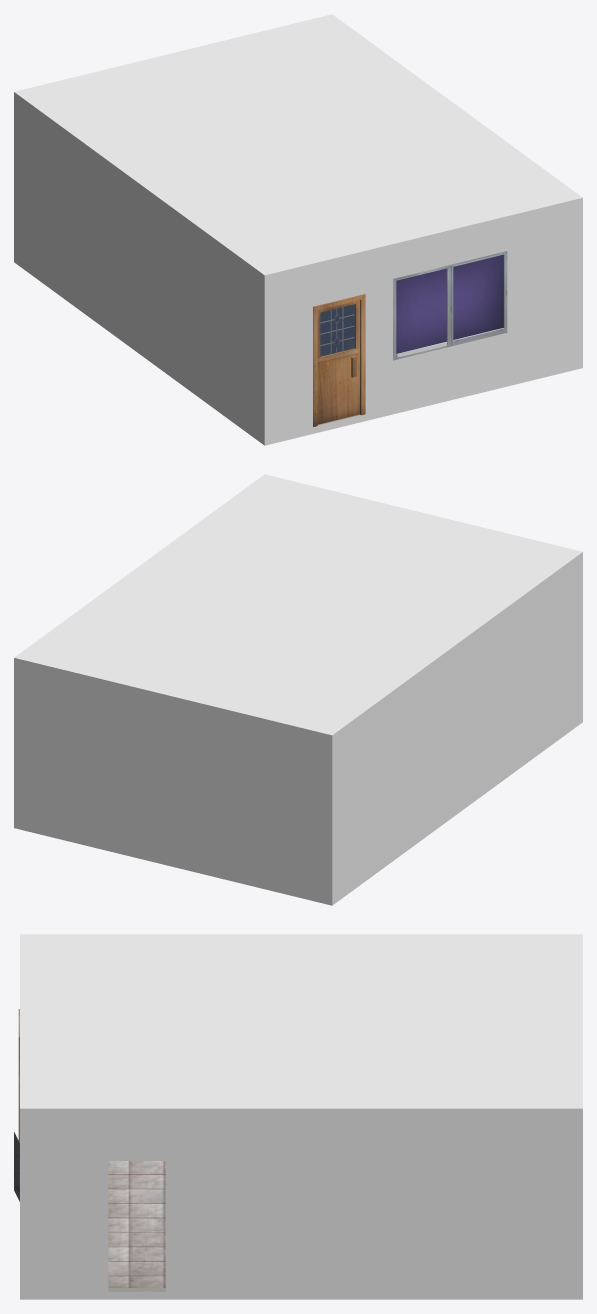
The model's file is MainRoom.glb.
3 views of the same model, one above another, from view 1: azimuth 30°, elevation 25°; view 2: azimuth 150°, elevation 25°; view 3: azimuth 270°, elevation 25° (orthographic). The views are drawn at different scales.
Parts seen in each view (by area): view 1: Plane, Plane.001, Cube.002, Plane.002, Cube; view 2: Plane; view 3: Plane.
Part boxes in pixels (bbox=[...]): Plane: bbox=[14, 14, 582, 445]; Plane.001: bbox=[396, 254, 503, 353]; Cube.002: bbox=[317, 300, 359, 424]; Plane.002: bbox=[393, 251, 507, 360]; Cube: bbox=[313, 294, 365, 426]; Plane: bbox=[14, 474, 582, 905]; Plane: bbox=[20, 934, 582, 1299].
Size of the model in its own units: 5.72 by 2.93 by 7.89.
3 materials, 3 textured.
